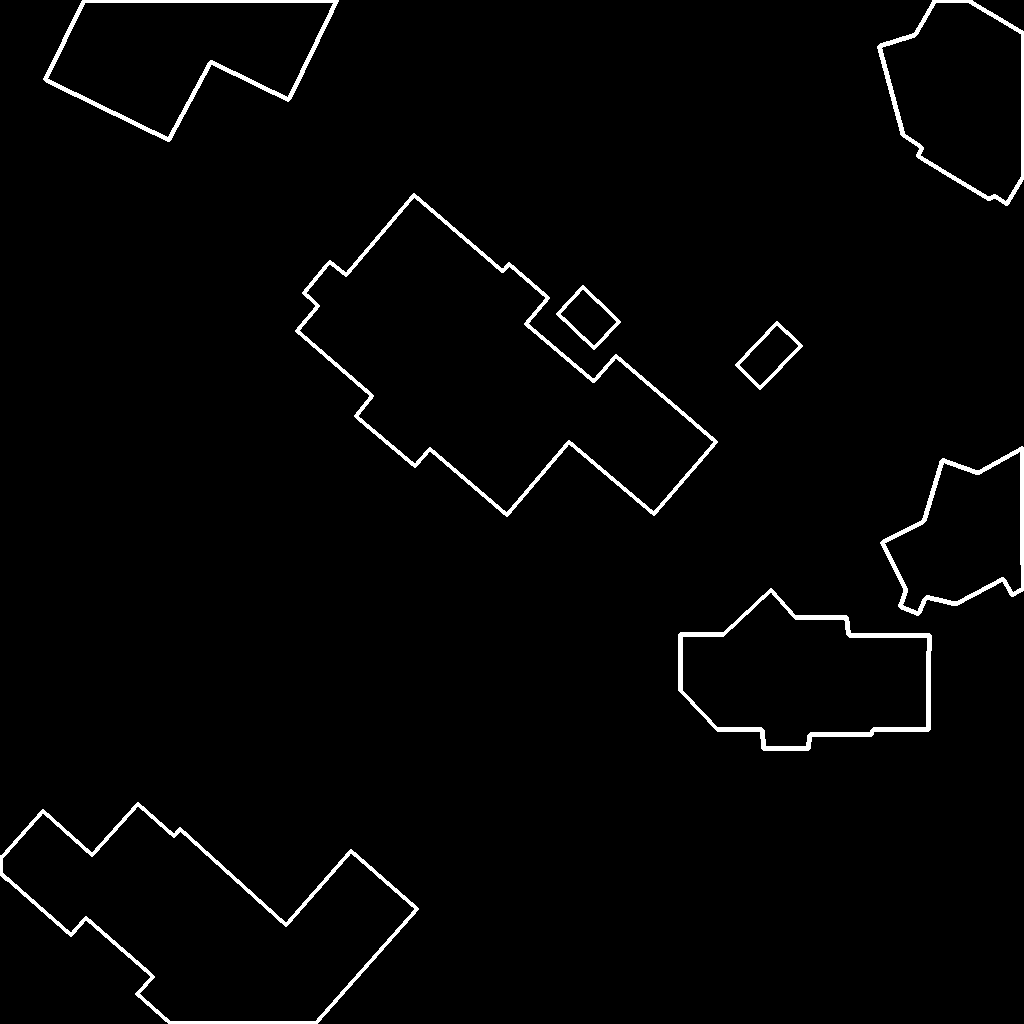building: (297, 195, 717, 516), (0, 804, 418, 1024), (45, 0, 338, 141), (680, 590, 930, 749), (879, 0, 1024, 205), (882, 448, 1024, 615), (737, 323, 802, 389), (558, 287, 620, 349)
